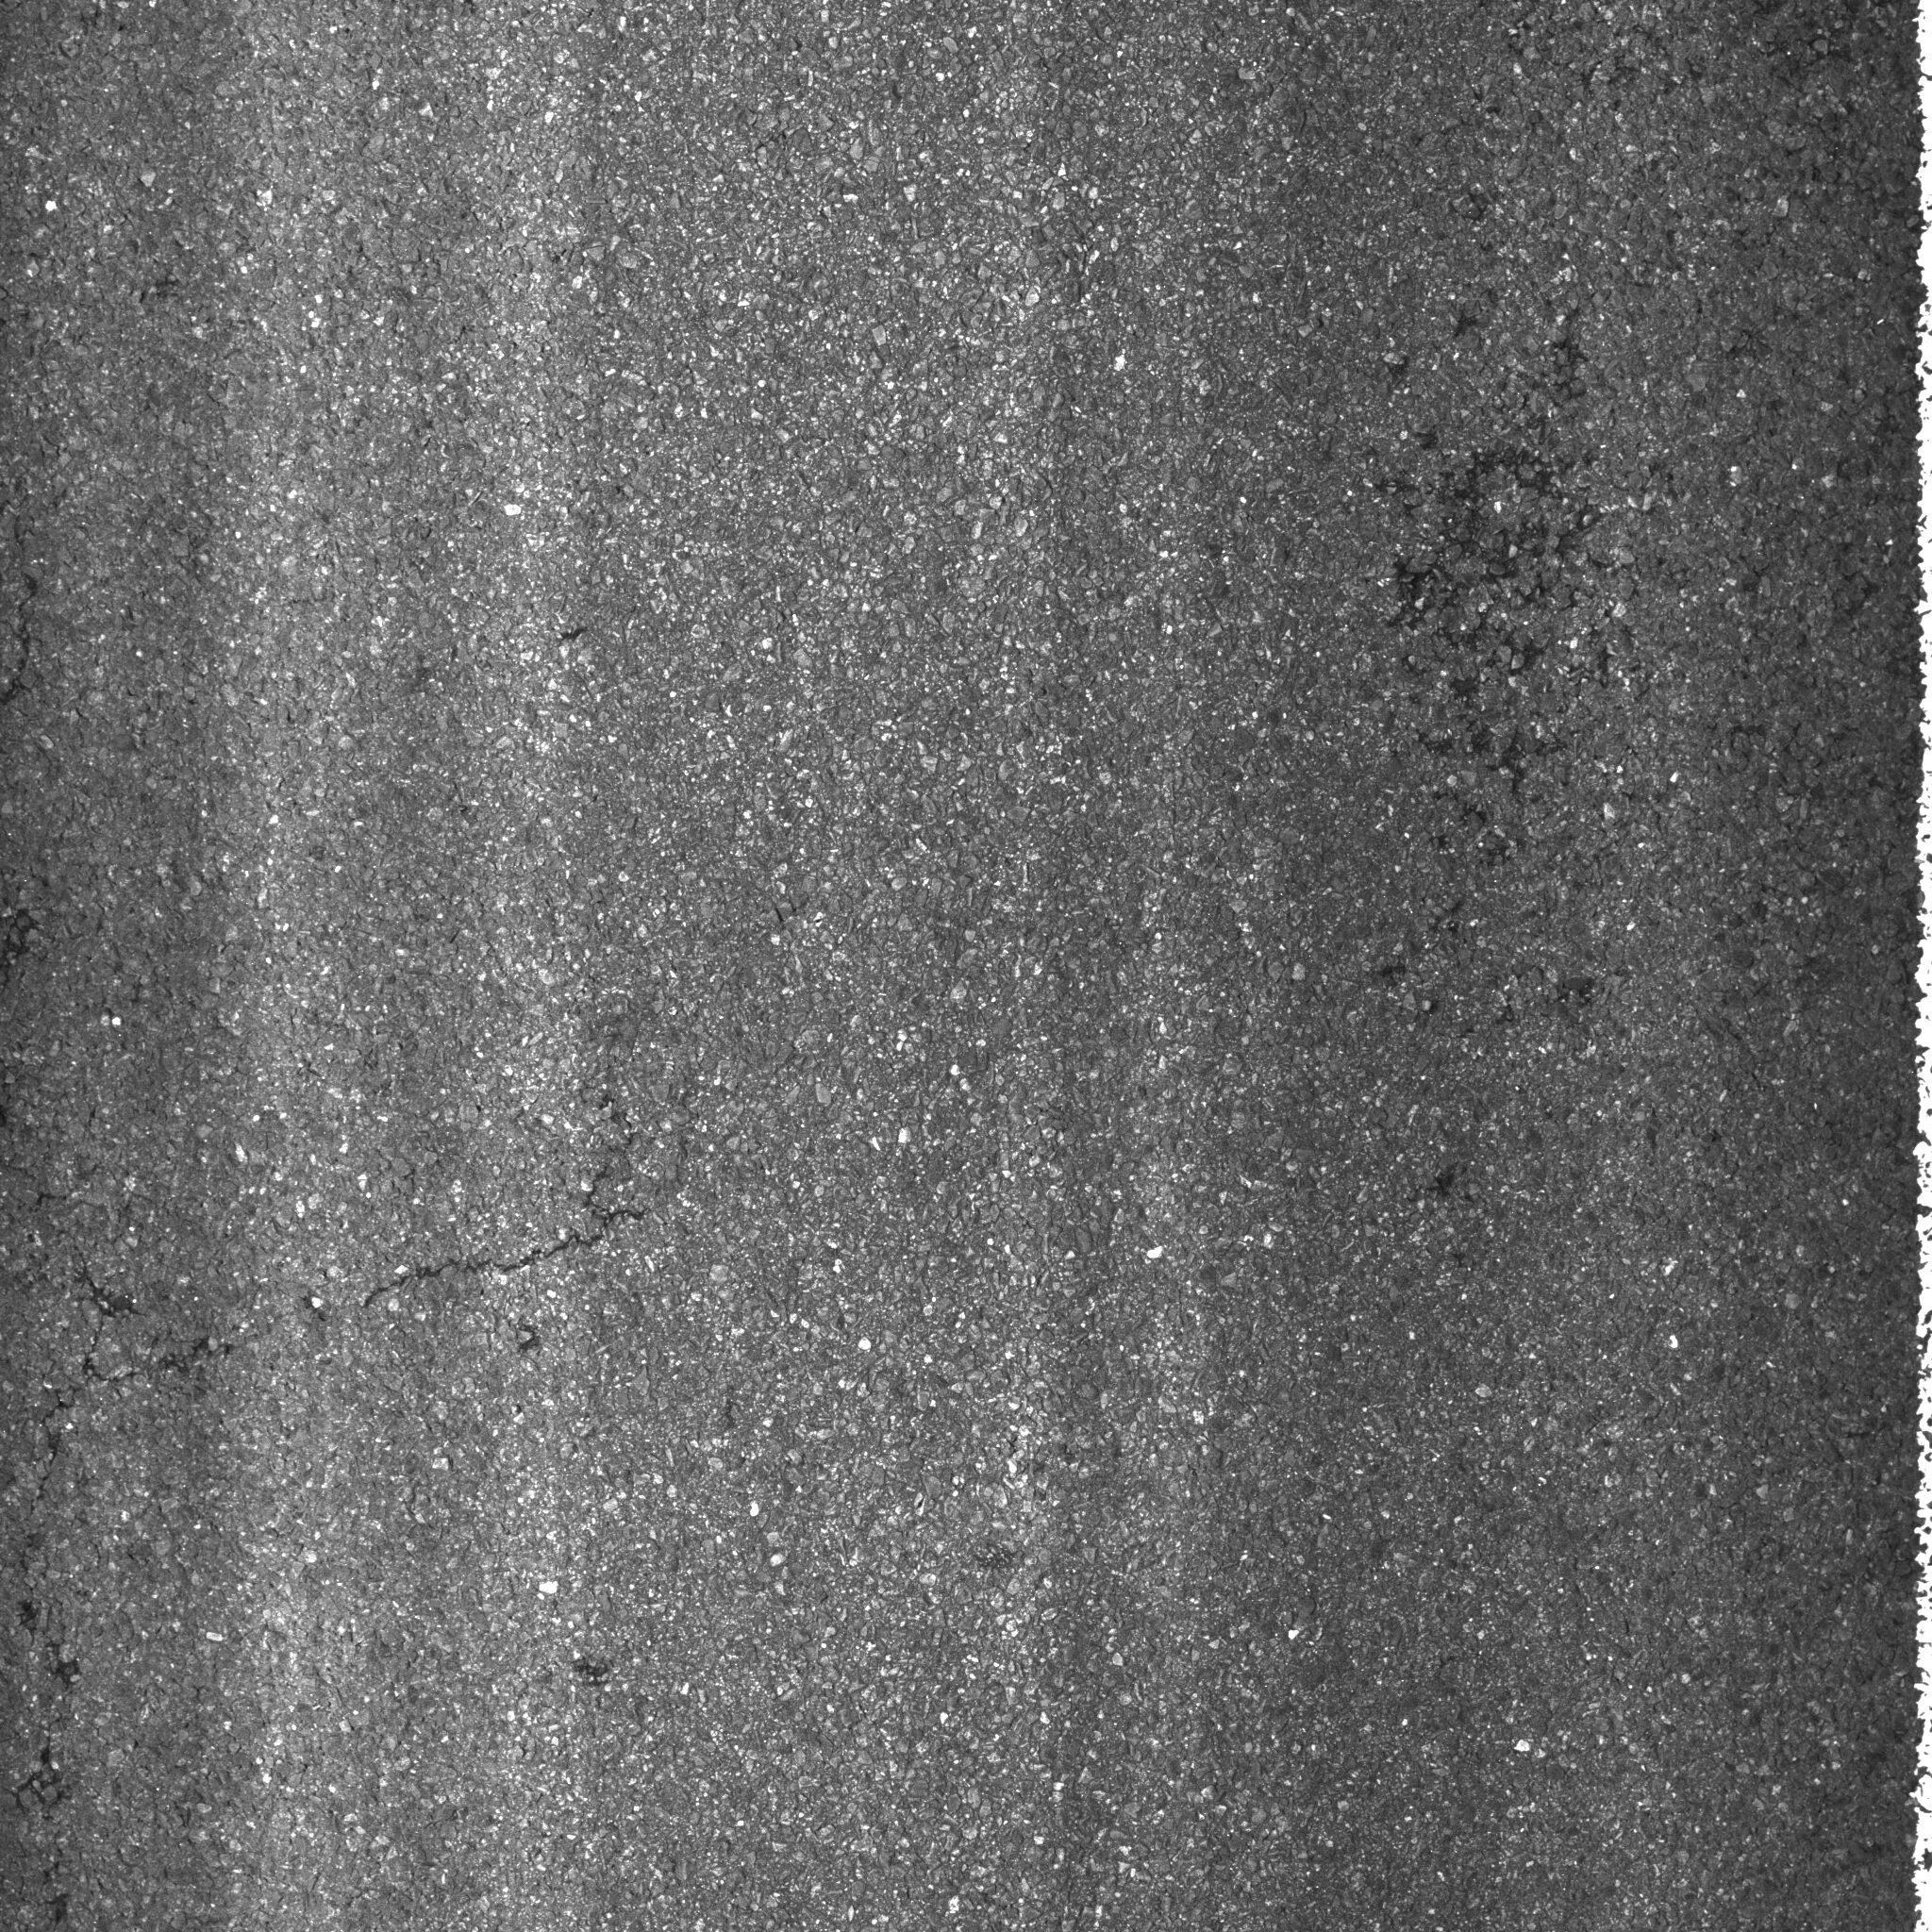transeverse: (23, 1115, 743, 1932)
